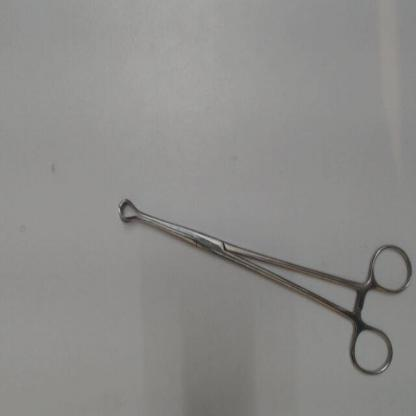8 Babcock Tissue Forceps: (112, 189, 414, 384)
